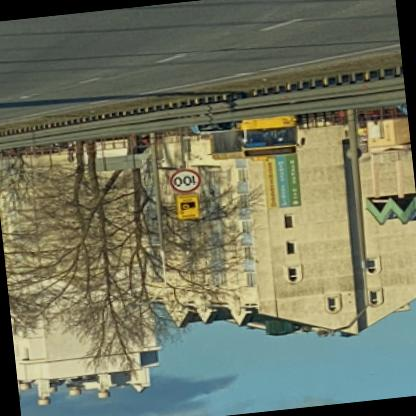speedlimit: (171, 169, 204, 194)
